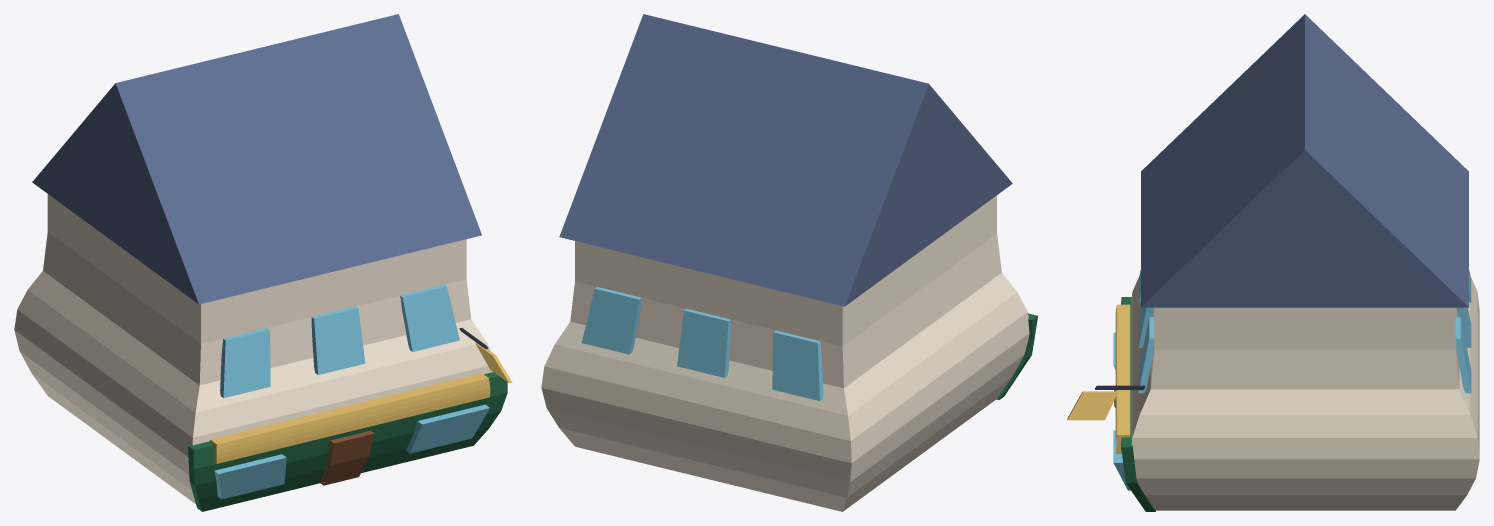
Rendered from pub.glb.
3 views of the same model, side by side, from view 1: azimuth 30°, elevation 25°; view 2: azimuth 150°, elevation 25°; view 3: azimuth 270°, elevation 25° (orthographic). The views are drawn at different scales.
Visible parts, largest first — view 1: pub_roof_slate, pub_wall_cream, pub_window, pub_pub_green, pub_gold, pub_door; view 2: pub_wall_cream, pub_roof_slate, pub_window, pub_pub_green; view 3: pub_roof_slate, pub_wall_cream, pub_gold, pub_window, pub_pub_green.
Boxes of the visible parts, bbox=[...] form: pub_roof_slate: bbox=[32, 14, 481, 304]; pub_wall_cream: bbox=[14, 194, 492, 503]; pub_window: bbox=[214, 284, 489, 499]; pub_pub_green: bbox=[188, 372, 507, 511]; pub_gold: bbox=[210, 342, 512, 463]; pub_door: bbox=[320, 430, 374, 485]; pub_wall_cream: bbox=[541, 195, 1029, 511]; pub_roof_slate: bbox=[559, 14, 1012, 306]; pub_window: bbox=[581, 287, 823, 400]; pub_pub_green: bbox=[996, 313, 1037, 399]; pub_roof_slate: bbox=[1141, 14, 1468, 307]; pub_wall_cream: bbox=[1131, 276, 1479, 510]; pub_gold: bbox=[1067, 304, 1130, 453]; pub_window: bbox=[1113, 270, 1471, 490]; pub_pub_green: bbox=[1121, 297, 1155, 511].
Bounding box in the file's own units: 11.07 × 12.5 × 12.81.
